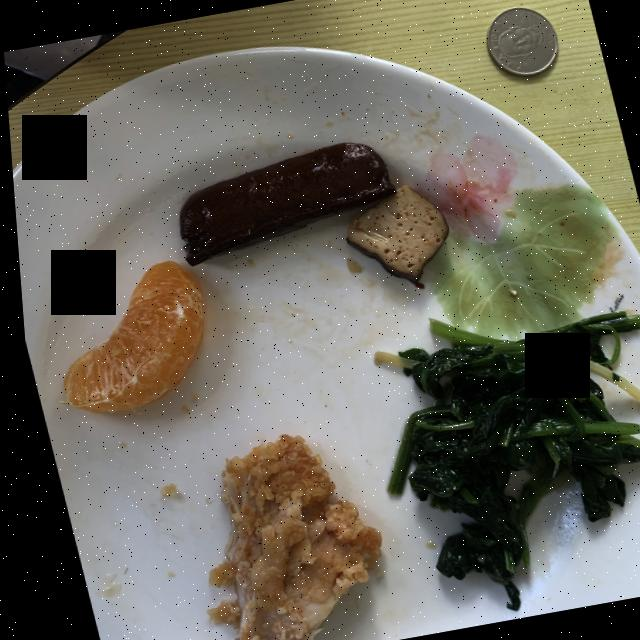coin: (485, 7, 556, 76)
firm tofu: (175, 142, 444, 283)
fried chicken cutlet: (197, 435, 372, 640)
mustard greens: (368, 311, 640, 610)
